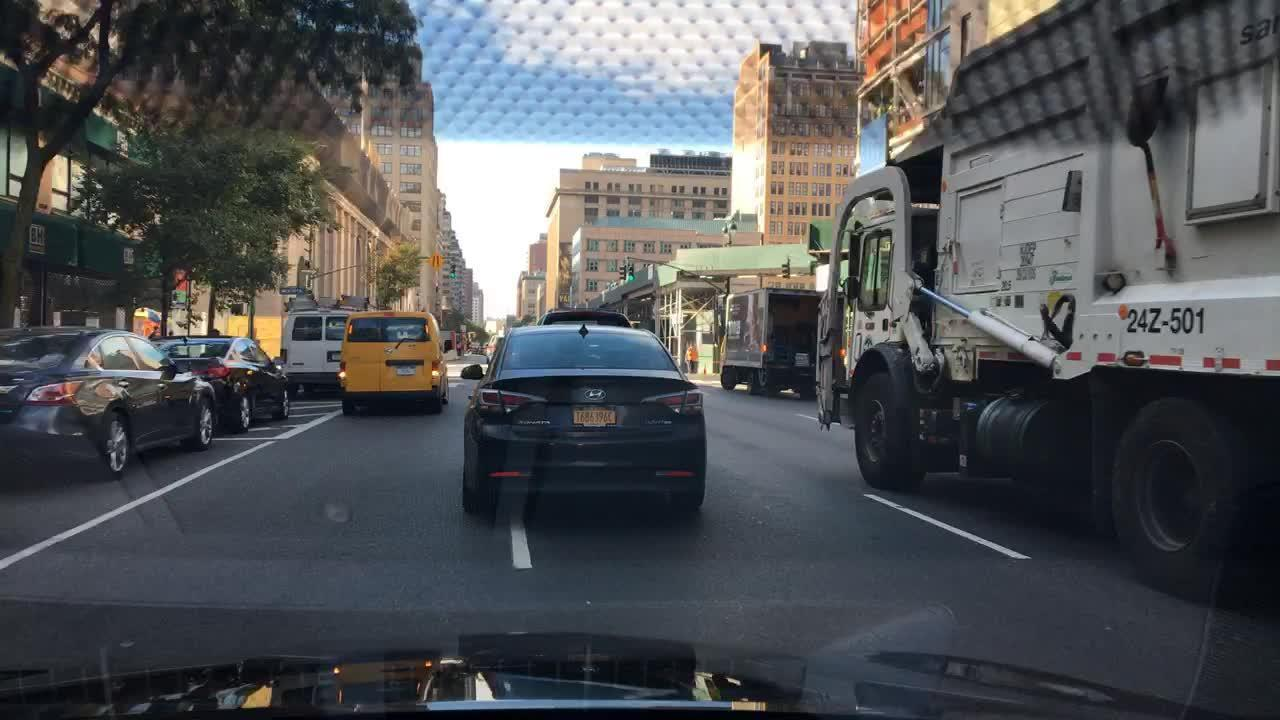Hyundai: (574, 382, 617, 407)
